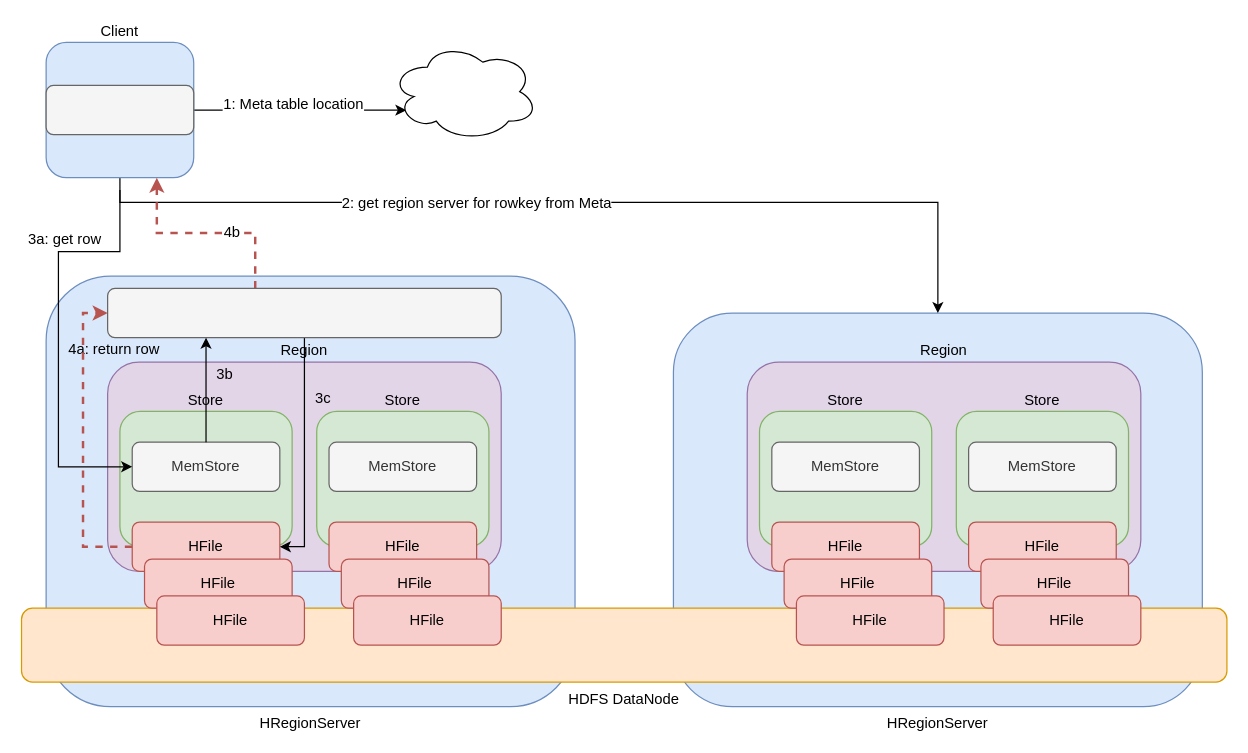
This 1248x753 diagram has some shape labels left out. Here are the shapes that lost their labels. From the top down, the centre of each, then its label:
At point (119, 109): "Meta Cache".
At point (463, 91): "Zookeeper".
At point (303, 312): "BlockCache".
